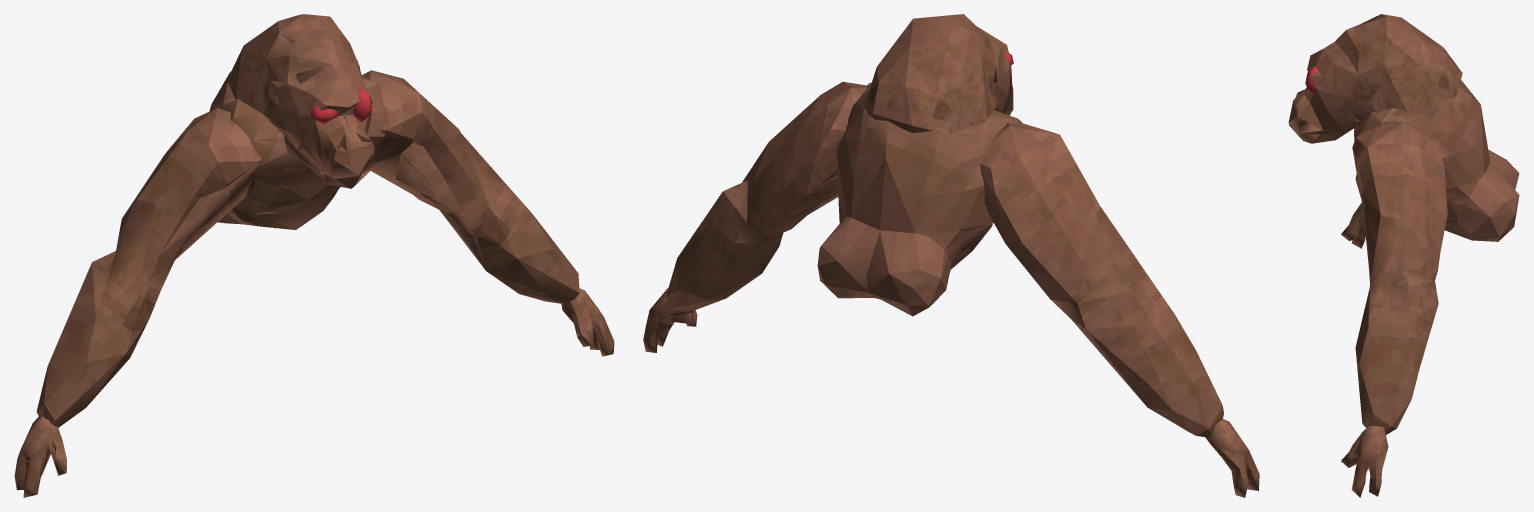
The model's file is item_squishy_edenzombie.glb.
3 views of the same model, side by side, from view 1: azimuth 30°, elevation 25°; view 2: azimuth 150°, elevation 25°; view 3: azimuth 270°, elevation 25° (orthographic). The views are drawn at different scales.
Visible parts, largest first — view 1: toy_edenzombie; view 2: toy_edenzombie; view 3: toy_edenzombie.
Part boxes in pixels (bbox=[...]): toy_edenzombie: bbox=[14, 14, 614, 497]; toy_edenzombie: bbox=[643, 14, 1259, 497]; toy_edenzombie: bbox=[1288, 14, 1519, 497].
Bounding box in the file's own units: 0.157 × 0.1021 × 0.0603.
1 material, 1 textured.
